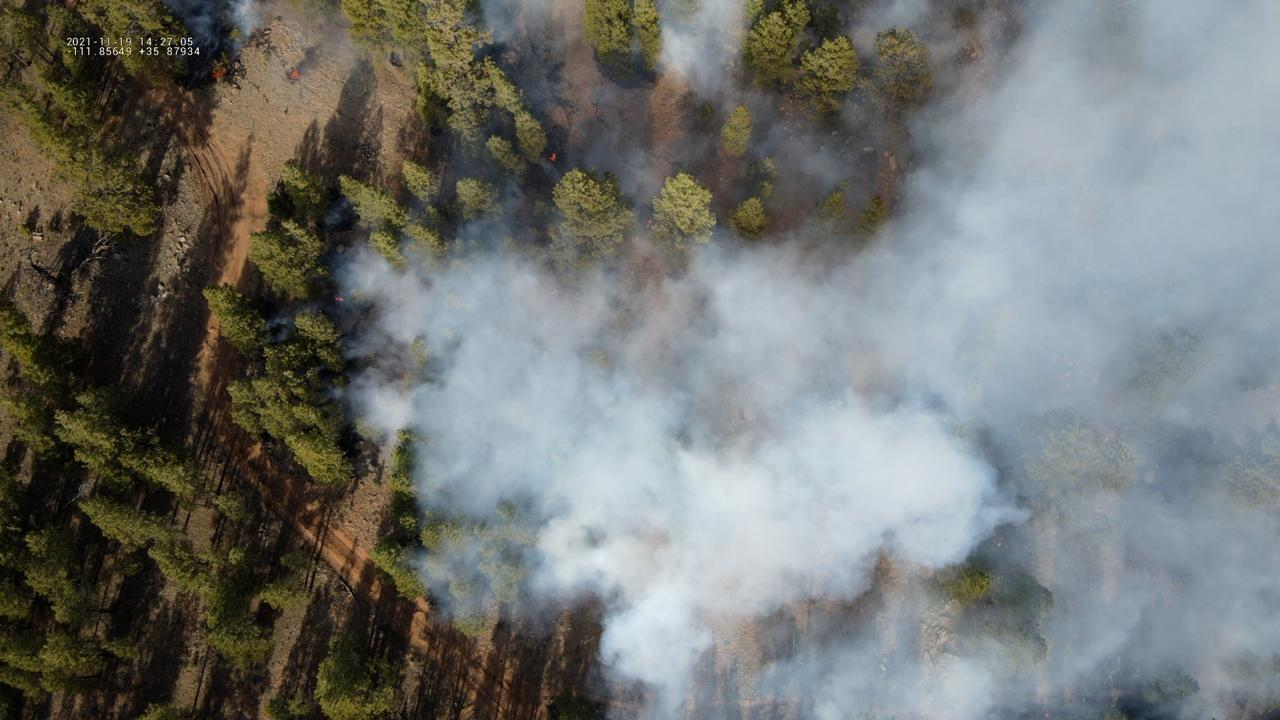fire: (207, 69, 225, 81), (289, 69, 301, 81), (549, 151, 559, 161), (334, 295, 346, 303)
smoke: (266, 0, 1280, 720), (161, 0, 266, 89)
